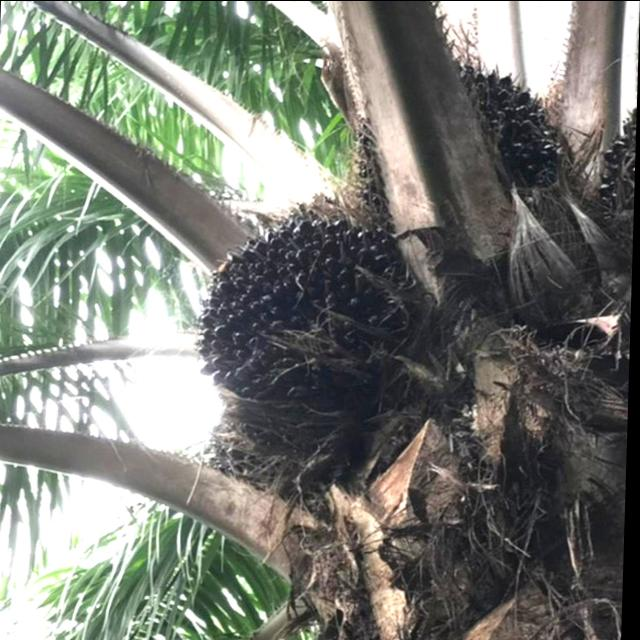almost: (186, 199, 434, 401), (349, 52, 566, 229)
